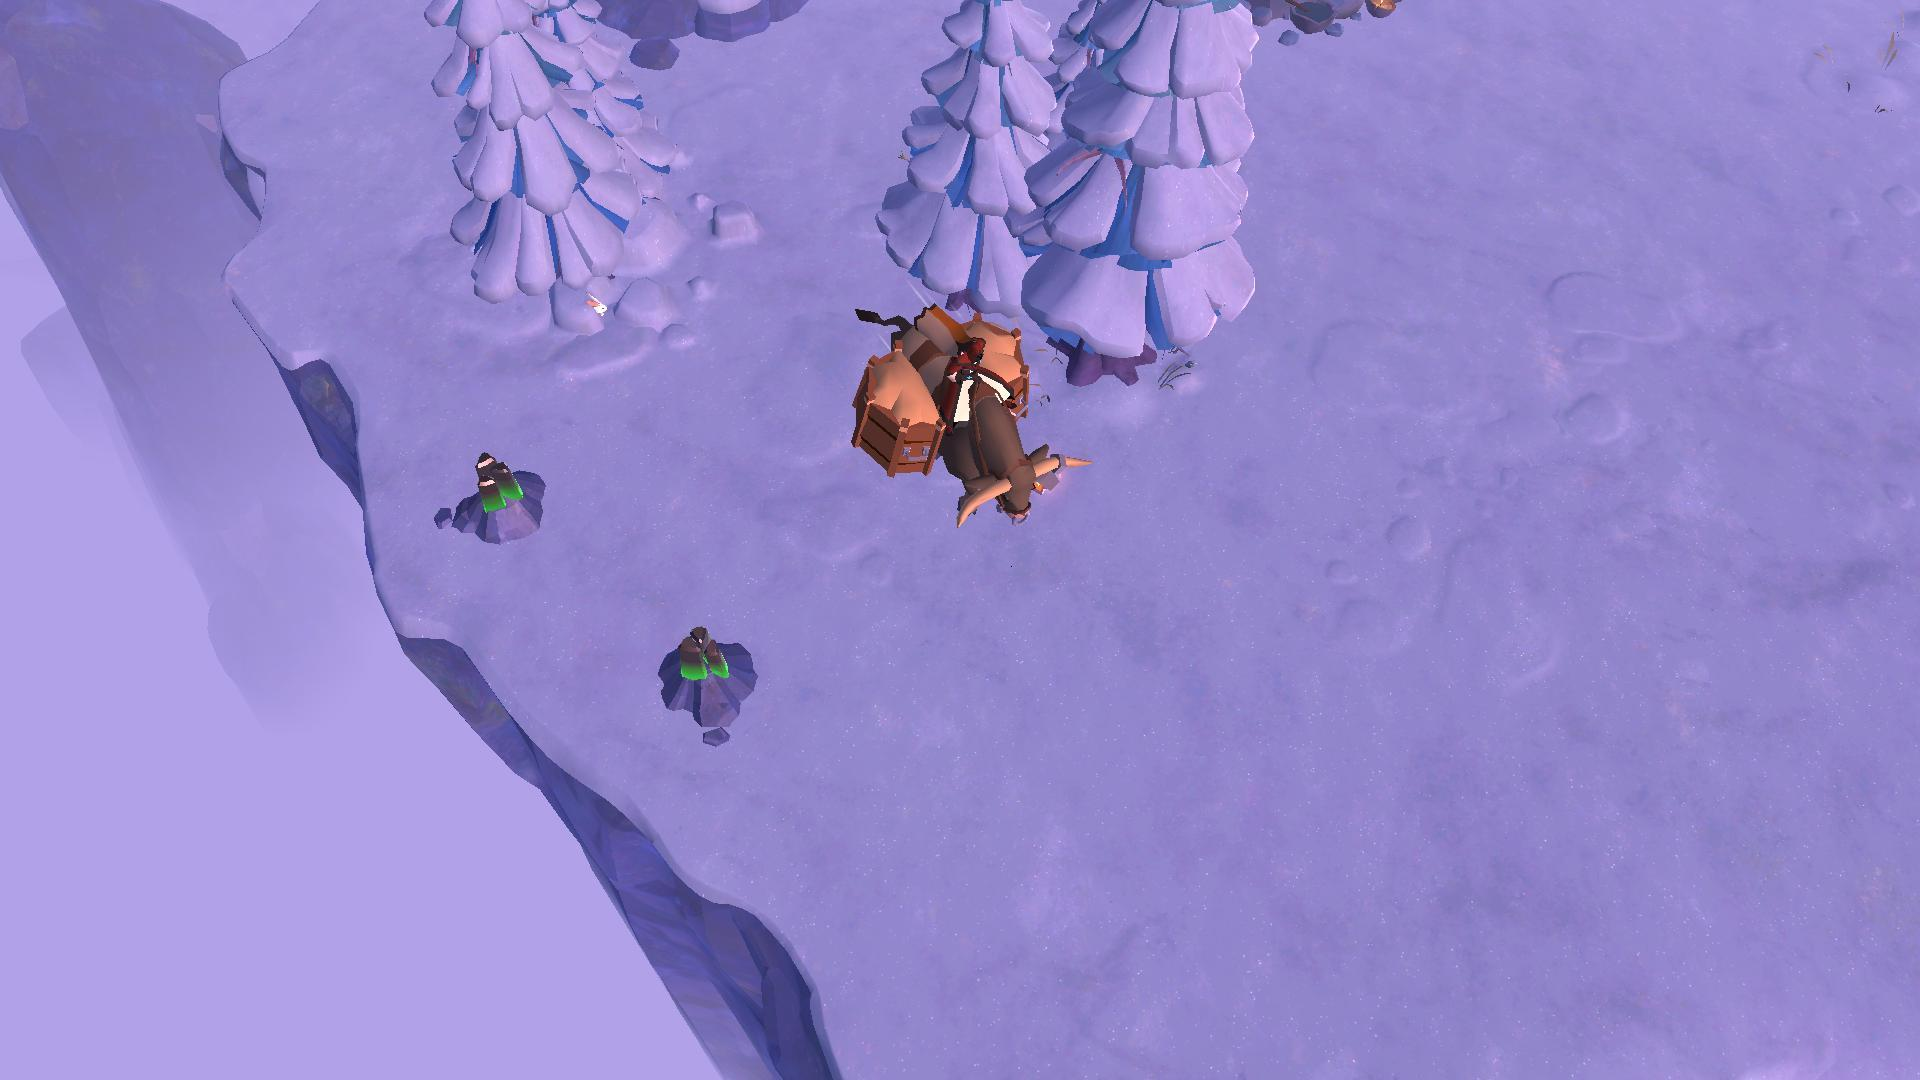ore_t3: (667, 620, 736, 694), (468, 443, 524, 516)
